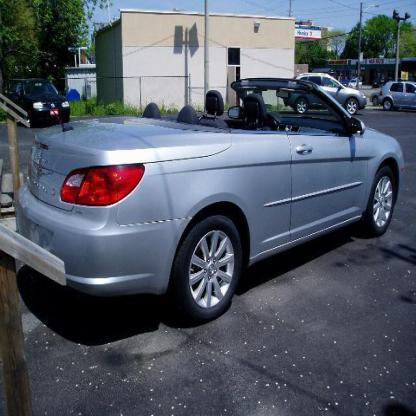Vehicle: (15, 79, 403, 323)
